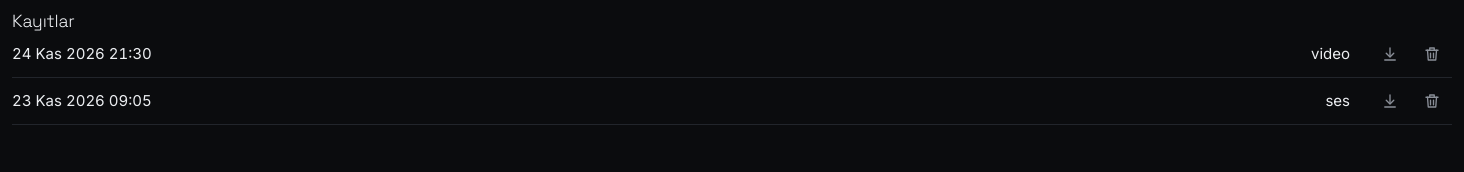
Test: recording actions › a failing delete shows "Silinemedi, tekrar dene." and keeps the row
Click the 1st button named "Sil" at (1432, 54), box [1412, 34, 1452, 74]
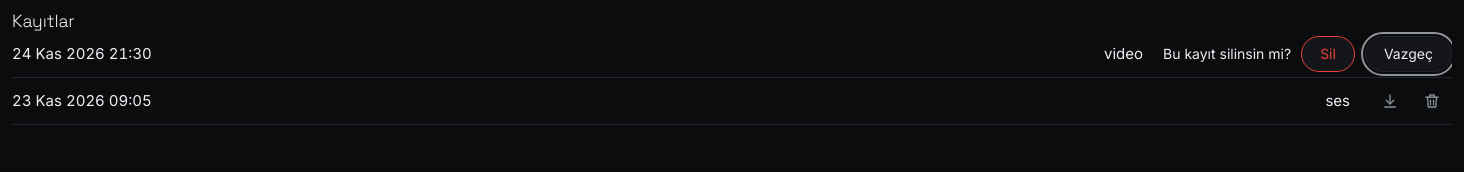
Click the button "Sil" at (1328, 54), box [1301, 36, 1355, 72]
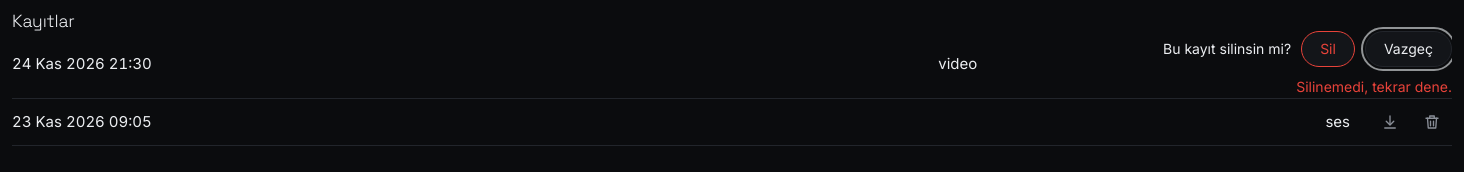
Expected: the number of list items is 2, [12, 31, 1452, 99]; [12, 99, 1452, 146]
Now the text "Silinemedi, tekrar dene." is shown, box [1296, 78, 1452, 95]
